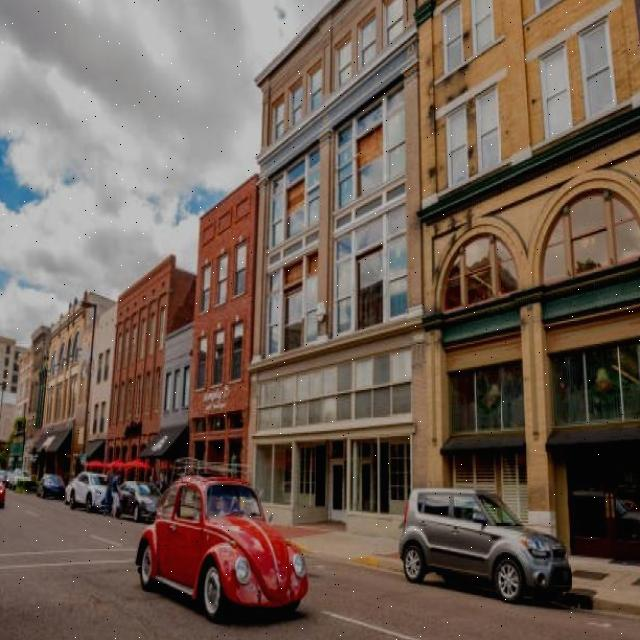car: (134, 476, 308, 609), (402, 475, 575, 605)
